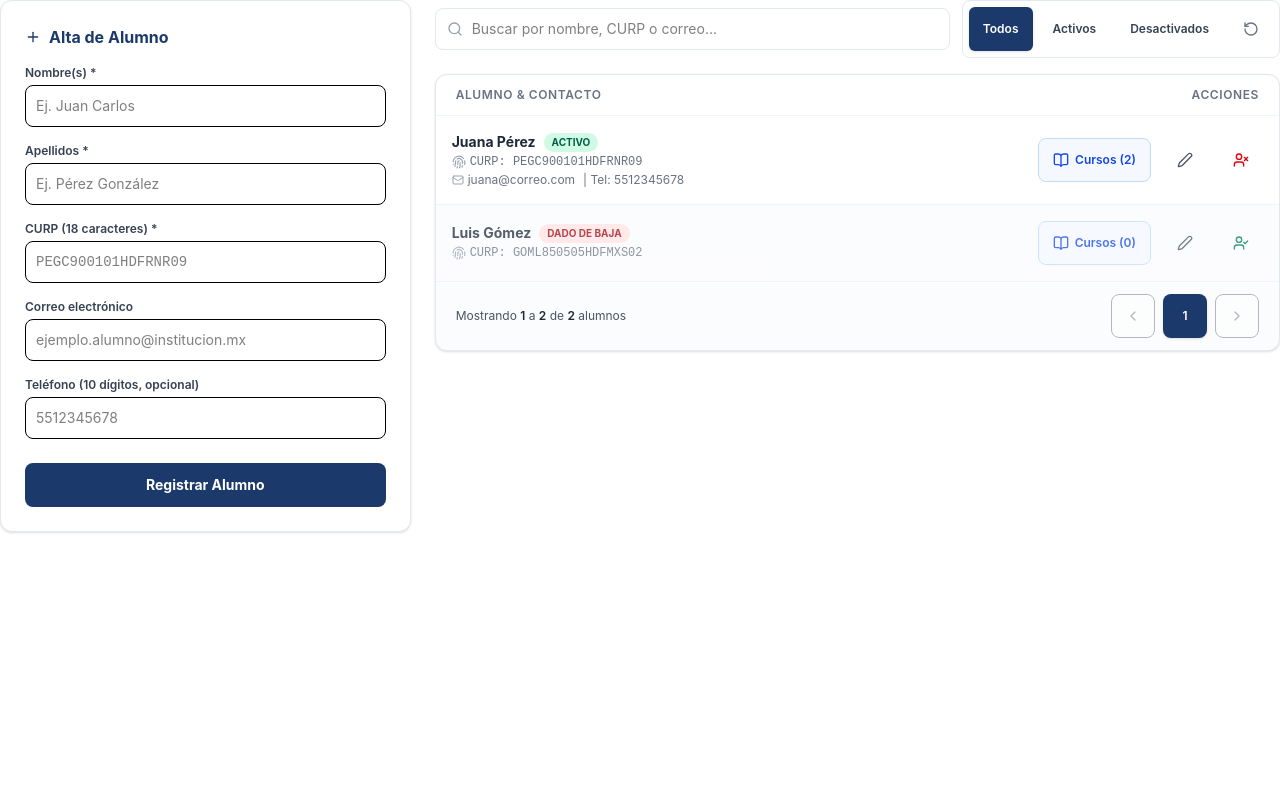
Scenario: ModuloAlumnos › modal de cursos del alumno › muestra mensaje si el alumno no tiene certificados
Click the button with aria-label "ver certificados y cursos inscritos de luis gómez" at point(1094, 243), box left=1038, top=221, right=1151, bottom=265
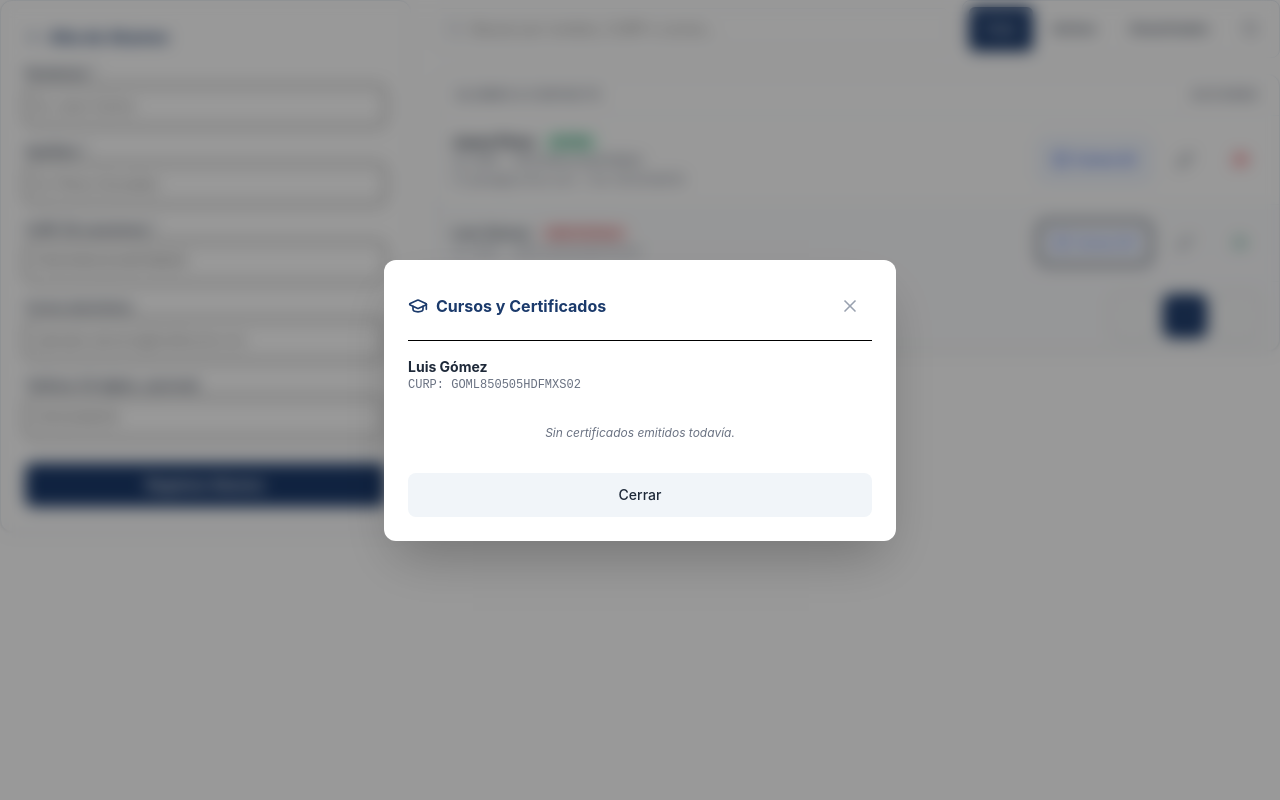
Now the text "Sin certificados emitidos todavía." is shown, box left=545, top=424, right=735, bottom=440
